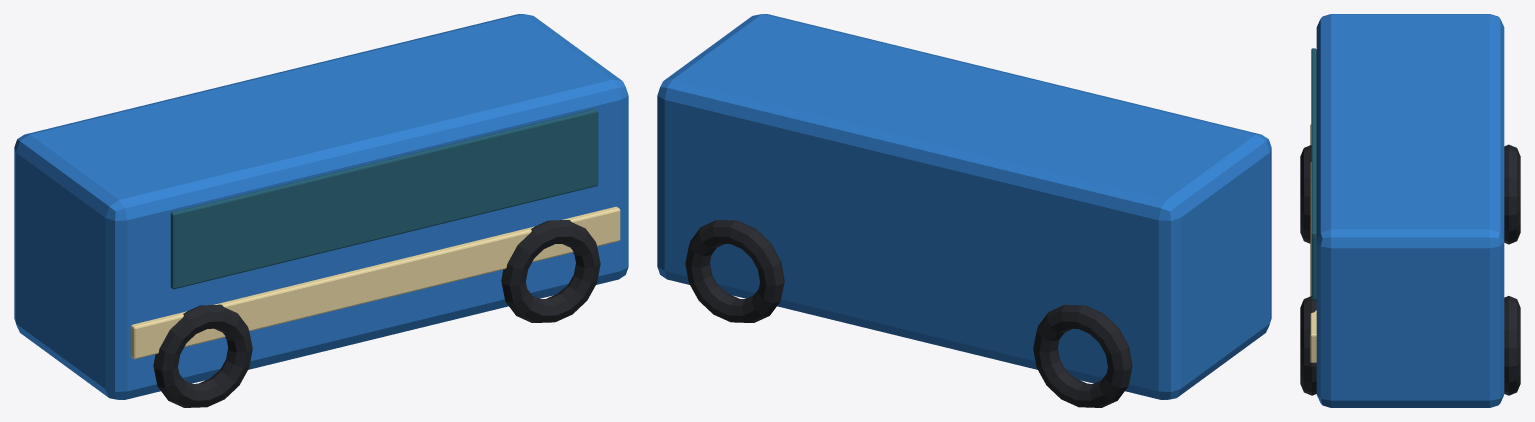
Rendered from bus.glb.
3 views of the same model, side by side, from view 1: azimuth 30°, elevation 25°; view 2: azimuth 150°, elevation 25°; view 3: azimuth 270°, elevation 25° (orthographic). The views are drawn at different scales.
Visible parts, largest first — view 1: BusBody, Windows, LowerBand, Wheel, Wheel.002; view 2: BusBody, Wheel.001, Wheel.003; view 3: BusBody, Wheel.001, Wheel.003, Windows, Wheel.002, Wheel, LowerBand.
Boxes of the visible parts, x1,y1,x2,y2 form: BusBody: (14, 14, 628, 399); Windows: (170, 109, 598, 289); LowerBand: (130, 206, 620, 359); Wheel: (153, 304, 252, 407); Wheel.002: (501, 220, 600, 322); BusBody: (657, 14, 1271, 399); Wheel.001: (1033, 304, 1132, 407); Wheel.003: (685, 220, 784, 322); BusBody: (1316, 14, 1504, 407); Wheel.001: (1504, 144, 1520, 244); Wheel.003: (1504, 296, 1520, 395); Windows: (1311, 48, 1316, 300); Wheel.002: (1300, 296, 1316, 395); Wheel: (1300, 145, 1311, 243); LowerBand: (1310, 124, 1316, 362).
Bounding box in the file's own units: 6 × 2.39 × 2.46.
